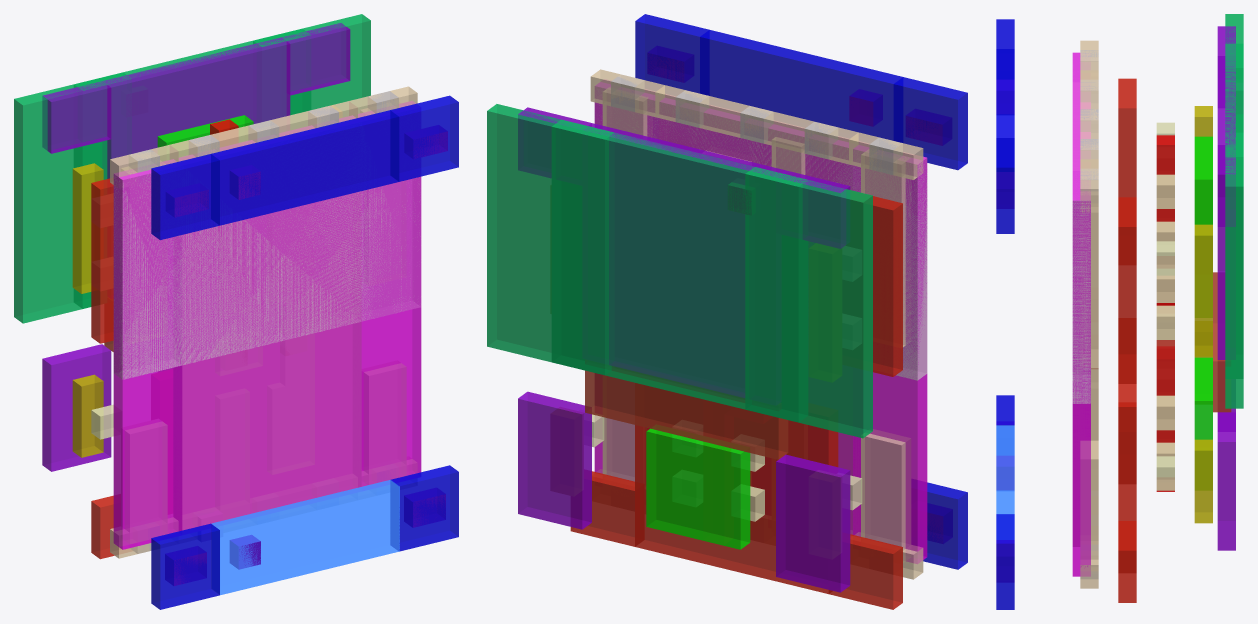
Rendered from actual-inverter-display.glb.
3 views of the same model, side by side, from view 1: azimuth 30°, elevation 25°; view 2: azimuth 150°, elevation 25°; view 3: azimuth 270°, elevation 25° (orthographic). The views are drawn at different scales.
Parts seen in each view (by area): view 1: inverter/sky130_fd_sc_hd__tapvpwrvgnd_1:9f8476fd75034128b000 (×17), inverter/sky130_fd_sc_hd__tapvpwrvgnd_1:972a5f63c70149dbad2b (×10), inverter/5ed7a1f0c85a4c8db8c81a05fc96dee0, inverter/3524d6f1d6924ad1936a5433ae9b51e5, inverter/4d2a0467baaa453f8b3a6dfeec176820, inverter/bf1f9b8c9d9a4493b9c27fa0b4c7459b, inverter/4aca10b68cfd4aa5a8606a3cea413ba1, inverter/fc8f578363194cea91cd0b128eaa707c, inverter/a53797dec2bc4258ac360de4d7d50cd2, inverter/cb5c672561fd47659445449b1c7e4451, inverter/1e33ea35da1a4d6e9b1c24a4423d11ed, inverter/abcf3896b05849f7b8889354dfe4641e (+1 smaller); view 2: inverter/sky130_fd_sc_hd__tapvpwrvgnd_1:9f8476fd75034128b000 (×16), inverter/4aca10b68cfd4aa5a8606a3cea413ba1, inverter/sky130_fd_sc_hd__tapvpwrvgnd_1:972a5f63c70149dbad2b (×11), inverter/fc8f578363194cea91cd0b128eaa707c, inverter/bf1f9b8c9d9a4493b9c27fa0b4c7459b, inverter/54b4ee001d044365a7bbf3482af8fa23, inverter/55822fafd0384e02ad218766f7d90055, inverter/b9d080b8a92543698151bfb17ac388d9, inverter/cb5c672561fd47659445449b1c7e4451, inverter/5ed7a1f0c85a4c8db8c81a05fc96dee0, inverter/4d2a0467baaa453f8b3a6dfeec176820, inverter/3524d6f1d6924ad1936a5433ae9b51e5 (+6 smaller); view 3: inverter/sky130_fd_sc_hd__tapvpwrvgnd_1:972a5f63c70149dbad2b (×21), inverter/sky130_fd_sc_hd__tapvpwrvgnd_1:9f8476fd75034128b000 (×8), inverter/4aca10b68cfd4aa5a8606a3cea413ba1, inverter/fc8f578363194cea91cd0b128eaa707c, inverter/b9d080b8a92543698151bfb17ac388d9, inverter/0196c3fdf9434448a094cb9c2395da72, inverter/5ed7a1f0c85a4c8db8c81a05fc96dee0, inverter/bf1f9b8c9d9a4493b9c27fa0b4c7459b, inverter/a53797dec2bc4258ac360de4d7d50cd2, inverter/cb5c672561fd47659445449b1c7e4451, inverter/13177b7395444325af78080cedb1a3f4, inverter/54b4ee001d044365a7bbf3482af8fa23 (+12 smaller).
Part boxes in pixels (x1,y1,x2,y2): inverter/sky130_fd_sc_hd__tapvpwrvgnd_1:9f8476fd75034128b000 (×17): (14,72,219,609); inverter/sky130_fd_sc_hd__tapvpwrvgnd_1:972a5f63c70149dbad2b (×10): (253,14,458,551); inverter/5ed7a1f0c85a4c8db8c81a05fc96dee0: (173,115,361,530); inverter/3524d6f1d6924ad1936a5433ae9b51e5: (182,194,361,529); inverter/4d2a0467baaa453f8b3a6dfeec176820: (182,191,361,364); inverter/bf1f9b8c9d9a4493b9c27fa0b4c7459b: (211,110,399,225); inverter/4aca10b68cfd4aa5a8606a3cea413ba1: (74,28,311,308); inverter/fc8f578363194cea91cd0b128eaa707c: (103,37,290,178); inverter/a53797dec2bc4258ac360de4d7d50cd2: (211,480,399,595); inverter/cb5c672561fd47659445449b1c7e4451: (170,101,357,161); inverter/1e33ea35da1a4d6e9b1c24a4423d11ed: (230,165,260,199); inverter/abcf3896b05849f7b8889354dfe4641e: (230,535,260,569); inverter/sky130_fd_sc_hd__tapvpwrvgnd_1:9f8476fd75034128b000 (×16): (745,77,967,609); inverter/4aca10b68cfd4aa5a8606a3cea413ba1: (551,119,807,422); inverter/sky130_fd_sc_hd__tapvpwrvgnd_1:972a5f63c70149dbad2b (×11): (487,14,709,546); inverter/fc8f578363194cea91cd0b128eaa707c: (584,123,785,397); inverter/bf1f9b8c9d9a4493b9c27fa0b4c7459b: (700,30,902,142); inverter/54b4ee001d044365a7bbf3482af8fa23: (646,428,750,549); inverter/55822fafd0384e02ad218766f7d90055: (585,366,788,459); inverter/b9d080b8a92543698151bfb17ac388d9: (635,420,838,593); inverter/cb5c672561fd47659445449b1c7e4451: (655,85,858,164); inverter/5ed7a1f0c85a4c8db8c81a05fc96dee0: (659,98,860,534); inverter/4d2a0467baaa453f8b3a6dfeec176820: (659,116,852,190); inverter/3524d6f1d6924ad1936a5433ae9b51e5: (659,119,852,534); inverter/sky130_fd_sc_hd__tapvpwrvgnd_1:972a5f63c70149dbad2b (×21): (996,133,1243,609); inverter/sky130_fd_sc_hd__tapvpwrvgnd_1:9f8476fd75034128b000 (×8): (996,14,1243,425); inverter/4aca10b68cfd4aa5a8606a3cea413ba1: (1225,43,1243,378); inverter/fc8f578363194cea91cd0b128eaa707c: (1217,56,1235,359); inverter/b9d080b8a92543698151bfb17ac388d9: (1118,384,1136,572); inverter/0196c3fdf9434448a094cb9c2395da72: (1156,135,1174,491); inverter/5ed7a1f0c85a4c8db8c81a05fc96dee0: (1072,82,1090,546); inverter/bf1f9b8c9d9a4493b9c27fa0b4c7459b: (996,49,1014,171); inverter/a53797dec2bc4258ac360de4d7d50cd2: (996,425,1014,539); inverter/cb5c672561fd47659445449b1c7e4451: (1080,70,1098,168); inverter/13177b7395444325af78080cedb1a3f4: (1194,136,1212,224); inverter/54b4ee001d044365a7bbf3482af8fa23: (1194,357,1212,439).
Size of the model in its own units: 2.68e-06 by 3.2e-06 by 1.62e-06.
